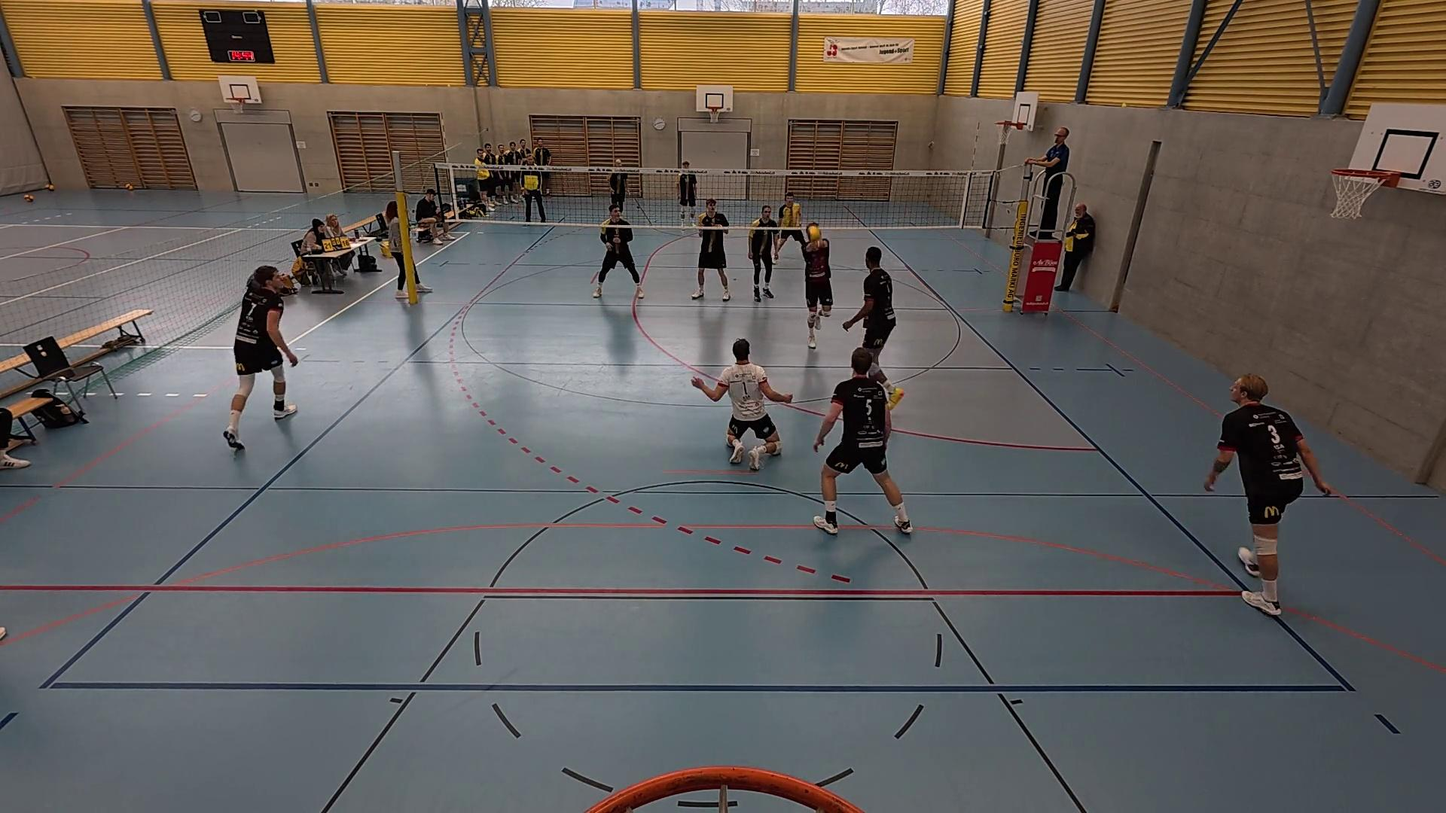alzata: (795, 220, 836, 352)
